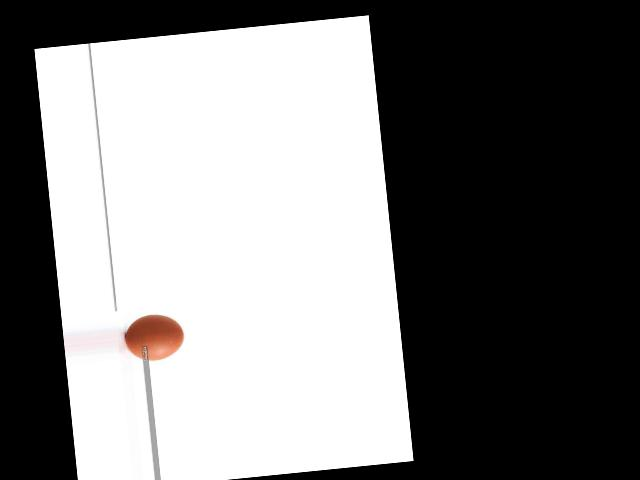egg: (124, 312, 185, 363)
